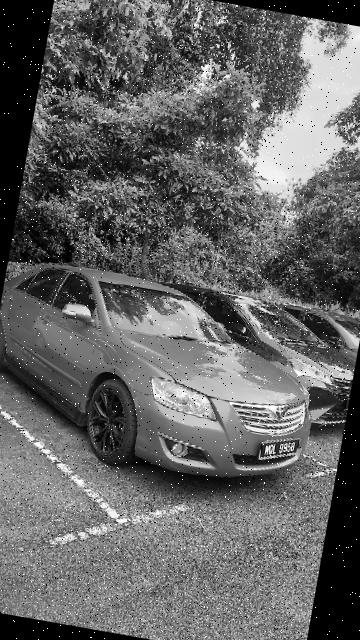License_Plate: (259, 432, 301, 466)
car: (1, 254, 332, 497), (141, 276, 360, 431)
